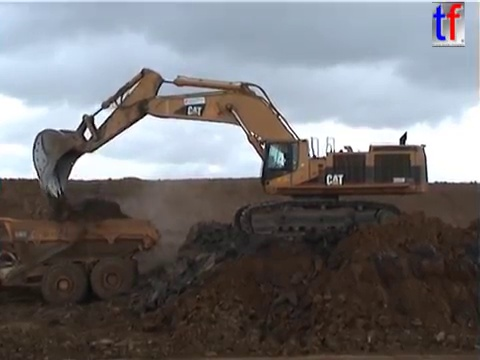excavator: (29, 64, 430, 243)
truck: (1, 214, 162, 306)
